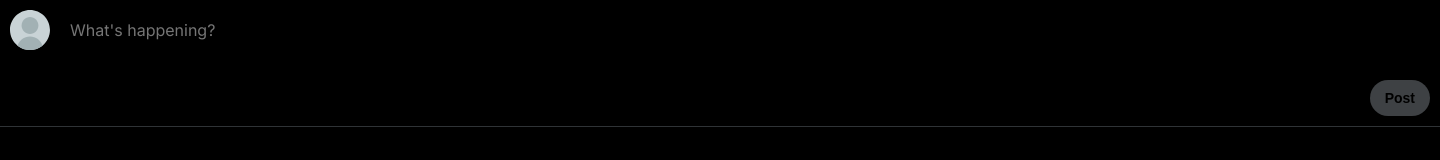
Test: PostComposer › should update the textarea and activate the Post button when typing
This screenshot has width=1440, height=160.
Type "Hello world!" into the text box with placeholder "What's happening?" at (745, 40), box top-left (60, 10), bottom-right (1430, 70)
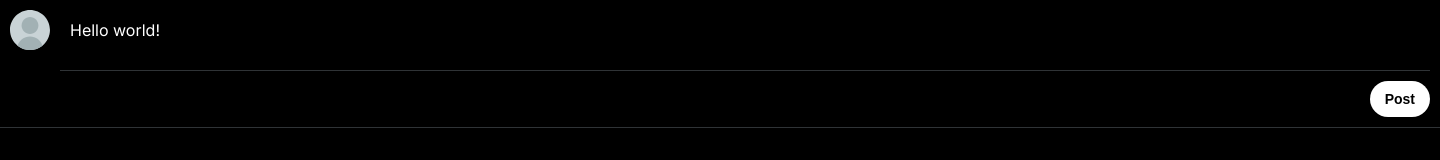
Expected: the button "Post" has class "active", top-left (1370, 81), bottom-right (1430, 117)
